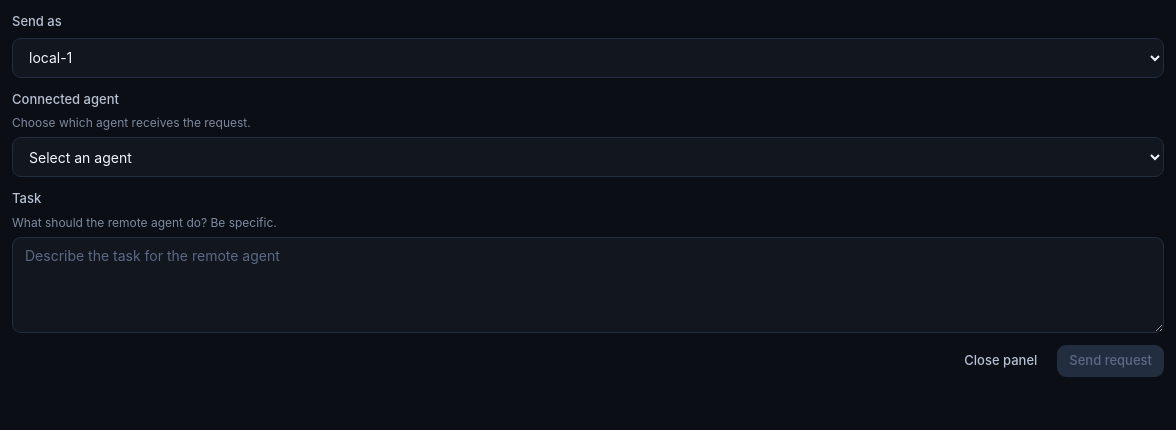
Scenario: RemoteRequestPanel › preserves the draft on failure and shows a safe error
Select "remote-1 (connected)" in the dropdown labelled "Connected agent" at (588, 157), box x1=12 y1=137 x2=1164 y2=177
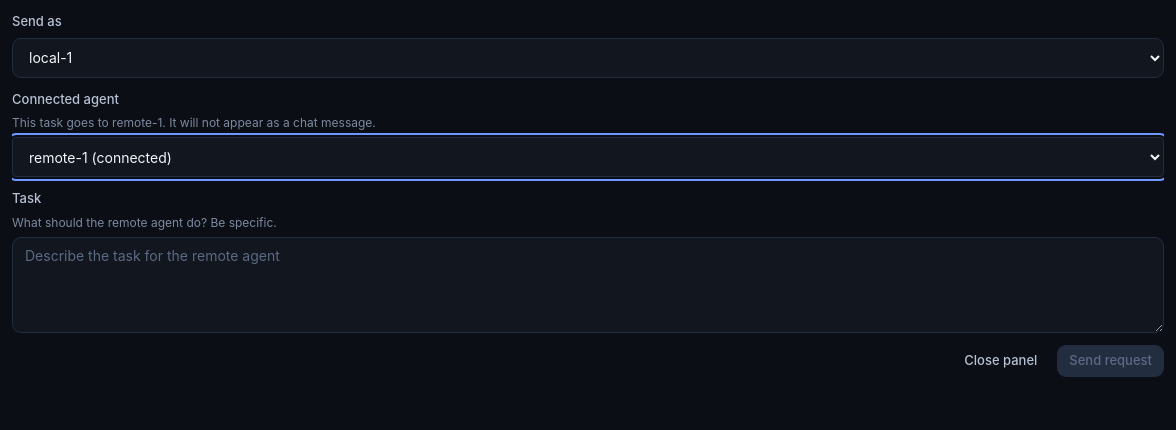
Type "Keep me" into the text box with placeholder "Describe the task for the remote agent" at (588, 284), box x1=12 y1=236 x2=1164 y2=332
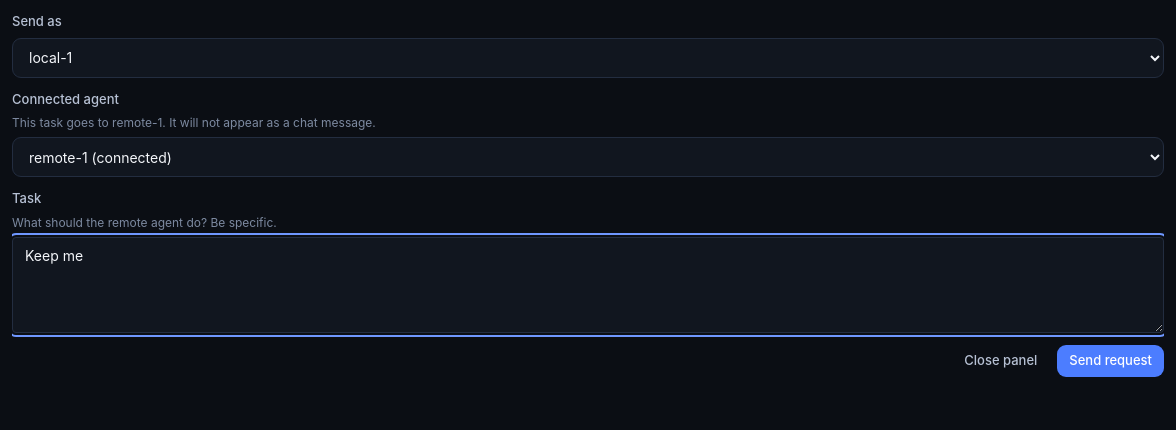
Click the button "Send request" at (1111, 360), box x1=1057 y1=344 x2=1164 y2=376
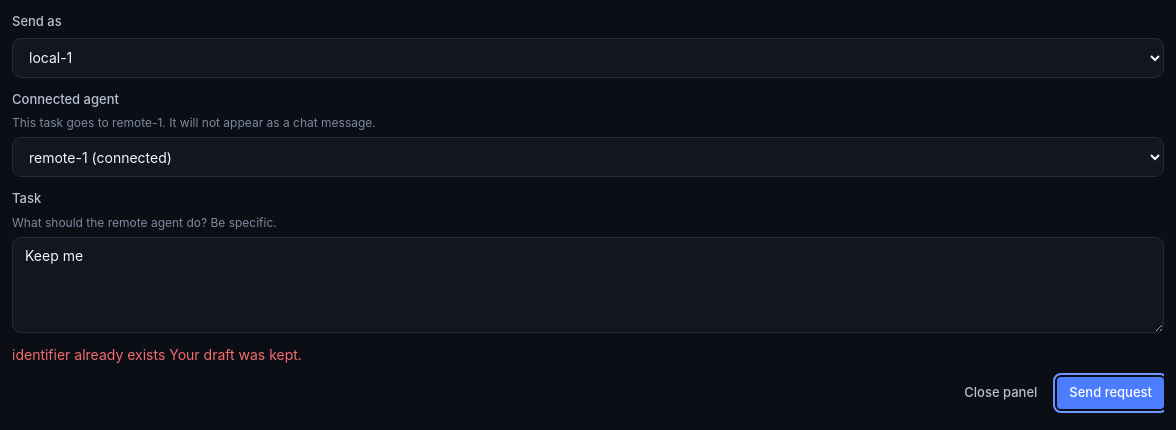
expect the message shows "identifier already exists": met, box x1=12 y1=346 x2=165 y2=362
